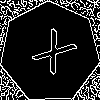X: (25, 27, 78, 84)
